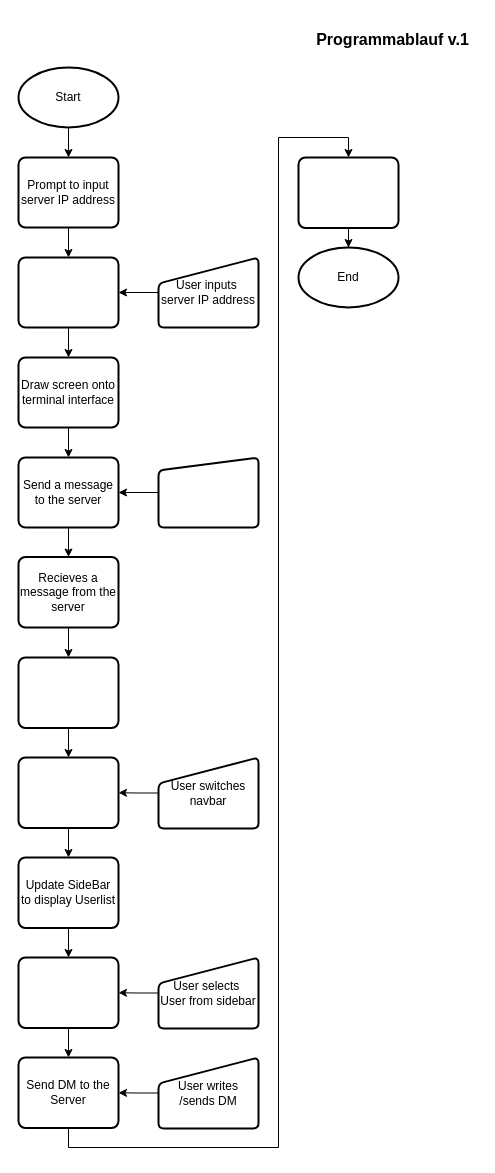
The diagram is 495 pixels wide and 1173 high, and some of its shapes have lost their labels. Each missing label, with the centre of its shape:
Connect to server wit set IP address: point 68,292
display the message in the MessageLog: point 68,692
Select user from SideBar: point 68,992
Select Userlist in navbar: point 68,792
Update MessageLog with DM: point 348,192
User inputs a message and sends it: point 208,492
